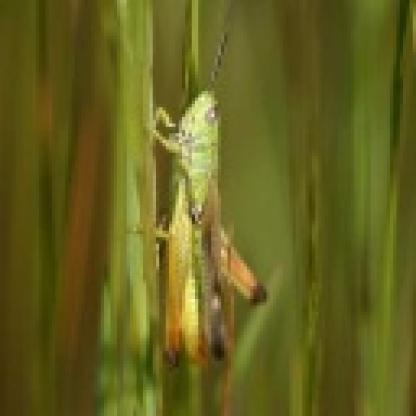grasshopper: (144, 28, 263, 373)
